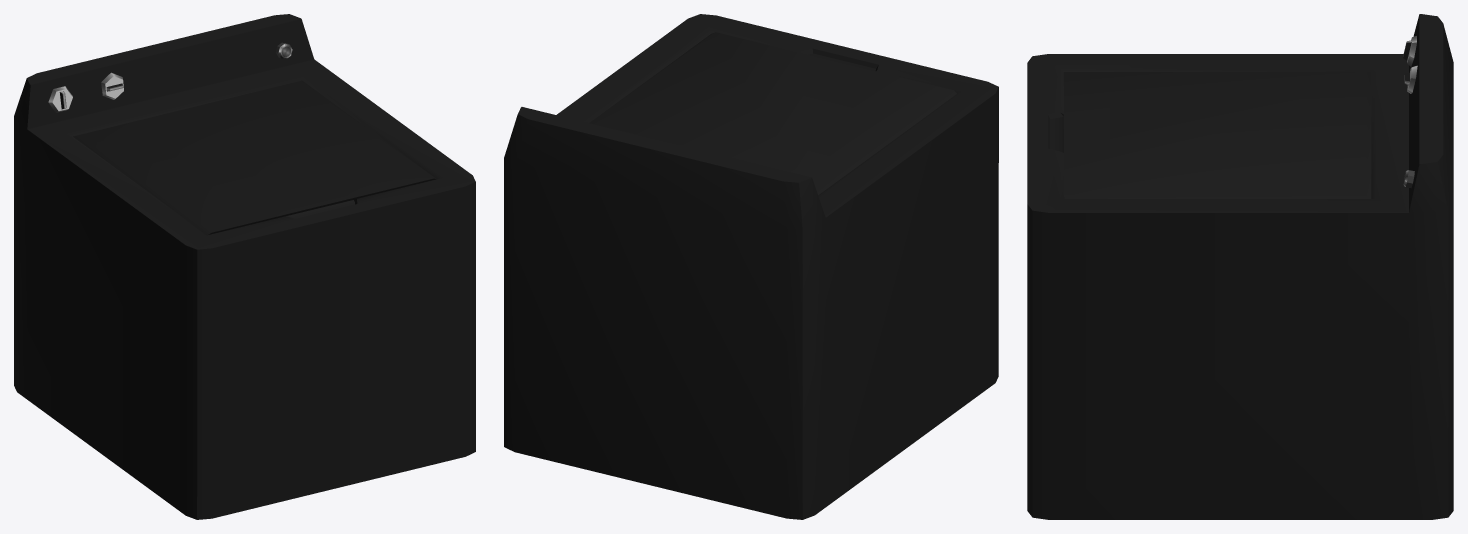
Rendered from Washer_02.FBX.
3 renders of one model, left to right at view 1: azimuth 30°, elevation 25°; view 2: azimuth 150°, elevation 25°; view 3: azimuth 270°, elevation 25°, orthographic. The views are drawn at different scales.
Visible parts, largest first — view 1: Washer; view 2: Washer; view 3: Washer.
Part boxes in pixels (x1=…): Washer: x1=14, y1=14, x2=475, y2=519; Washer: x1=504, y1=14, x2=998, y2=519; Washer: x1=1027, y1=14, x2=1453, y2=519.
Bounding box in the file's own units: 150 × 155 × 170.
